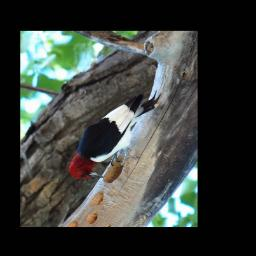Woodpecker: (70, 90, 165, 181)
